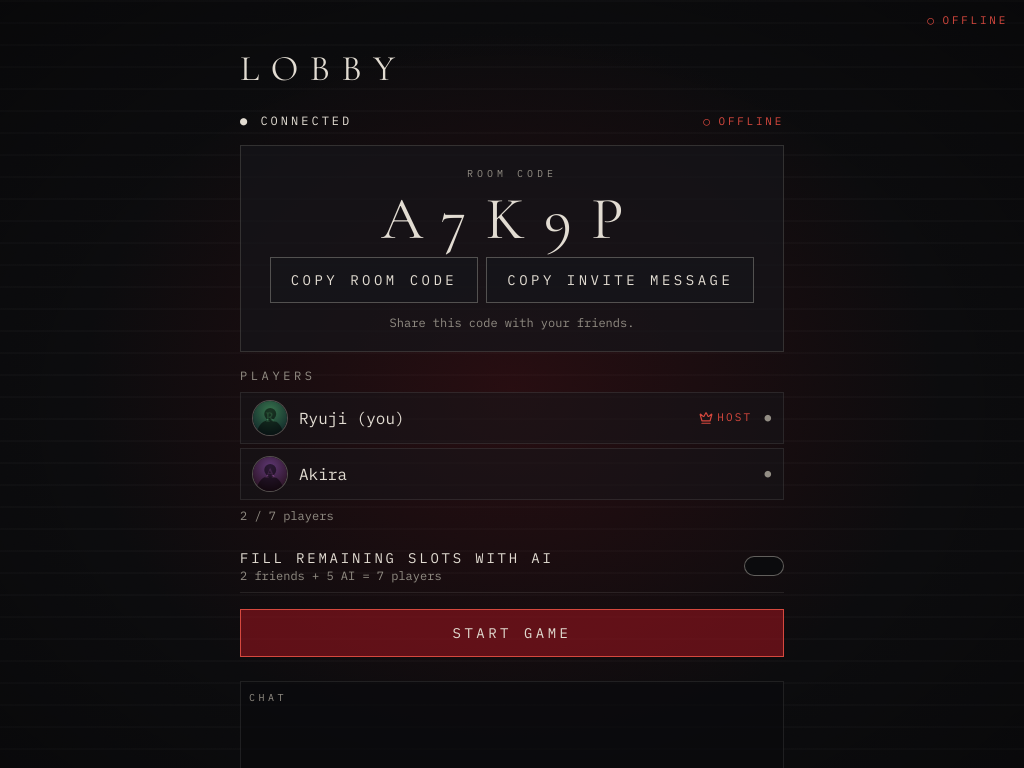
Test case: lobby › enables start with 2 players, and AI fill reports the final table size
The width and height of the screenshot is (1024, 768).
Check: the button "Start game" is enabled, box [240,608,784,656]
Click the switch labelled "Fill remaining slots with AI 2 friends + 5 AI = 7 players" at (764, 566), box [744,556,784,576]
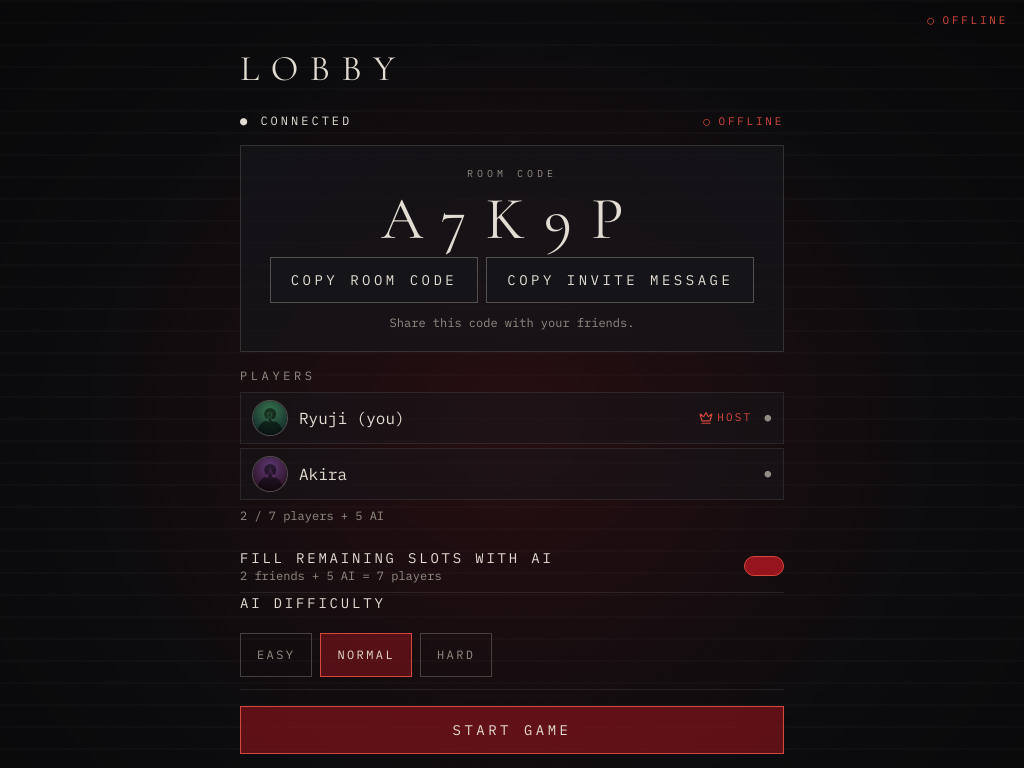
Check: the text "2 / 7 players + 5 AI" is shown, box [240,508,384,522]
